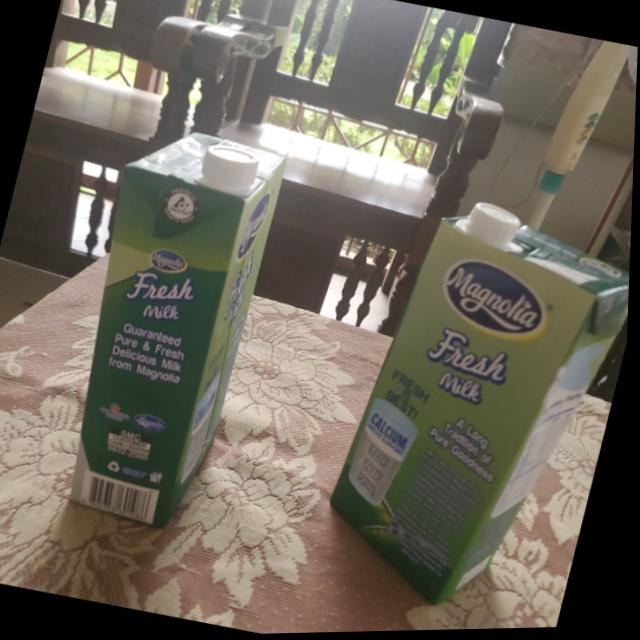milk: (316, 186, 634, 633), (37, 116, 288, 539)
